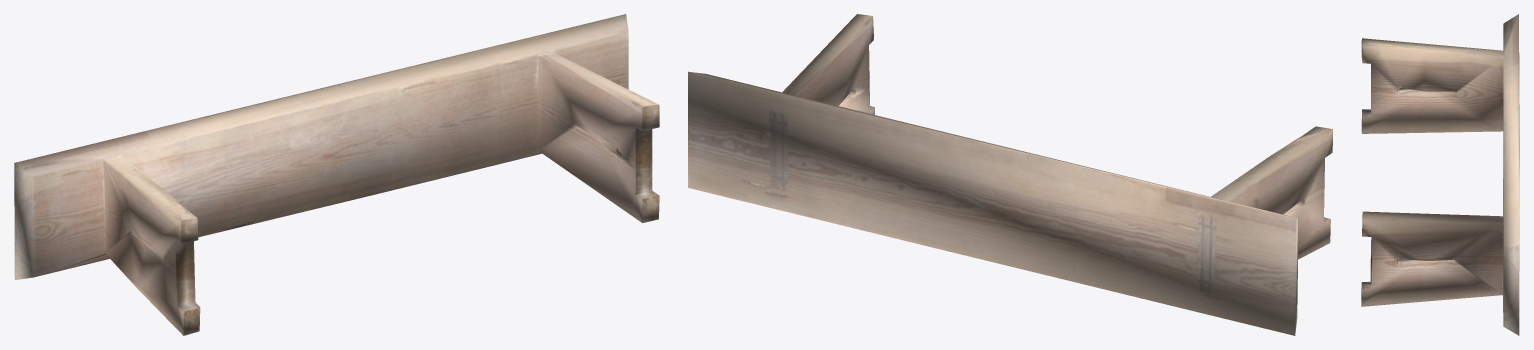
File: bench.glb
3 views of the same model, side by side, from view 1: azimuth 30°, elevation 25°; view 2: azimuth 150°, elevation 25°; view 3: azimuth 270°, elevation 25° (orthographic). The views are drawn at different scales.
Parts seen in each view (by area): view 1: Megascans bench; view 2: Megascans bench; view 3: Megascans bench.
Part boxes in pixels (x1,y1,x2,y2): Megascans bench: (14,14,659,335); Megascans bench: (688,14,1332,335); Megascans bench: (1361,14,1519,335).
Size of the model in its own units: 1.54 by 0.2873 by 0.4458.
1 material, 1 textured.
